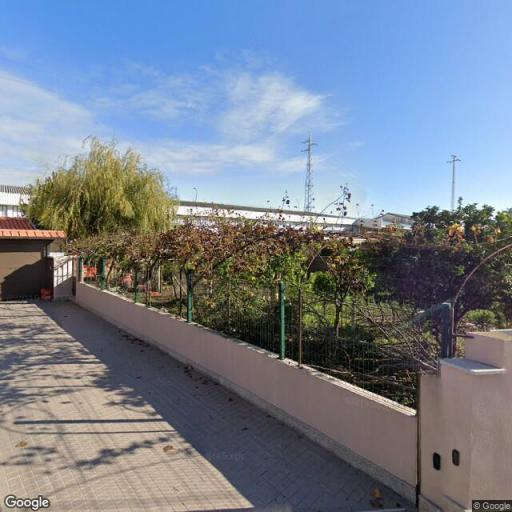mono_7: (446, 152, 460, 210)
ss_4: (300, 134, 318, 216)
